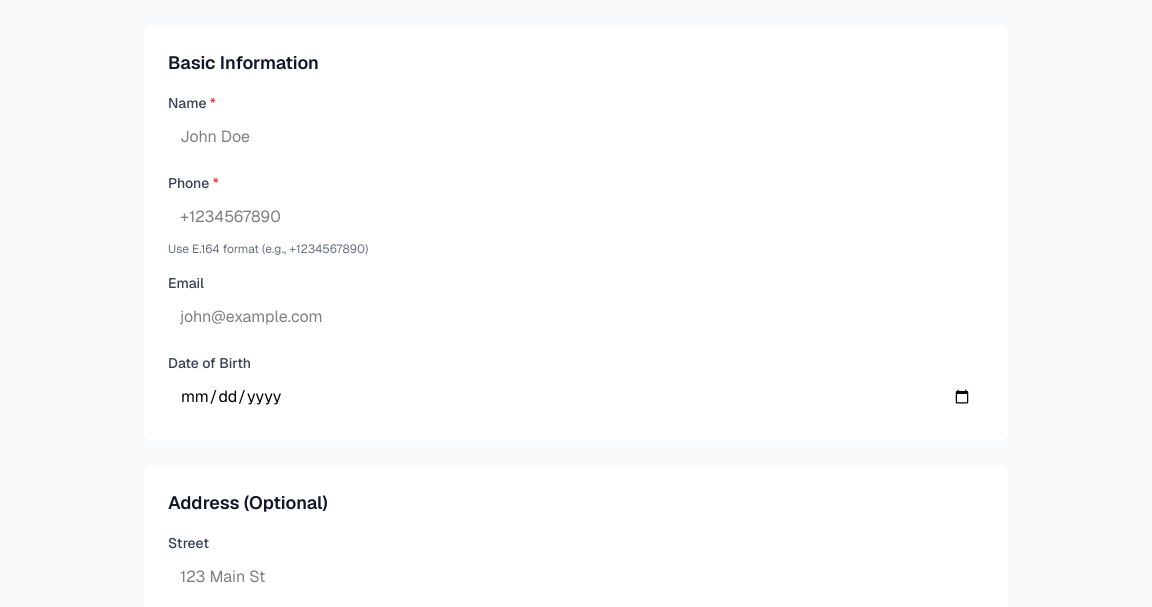
NewCustomerPage › Form Validation › should validate email format
In the field labelled "Email": (576, 317) 168,297 -> 984,337, type "invalid-email"
(page scrolled)
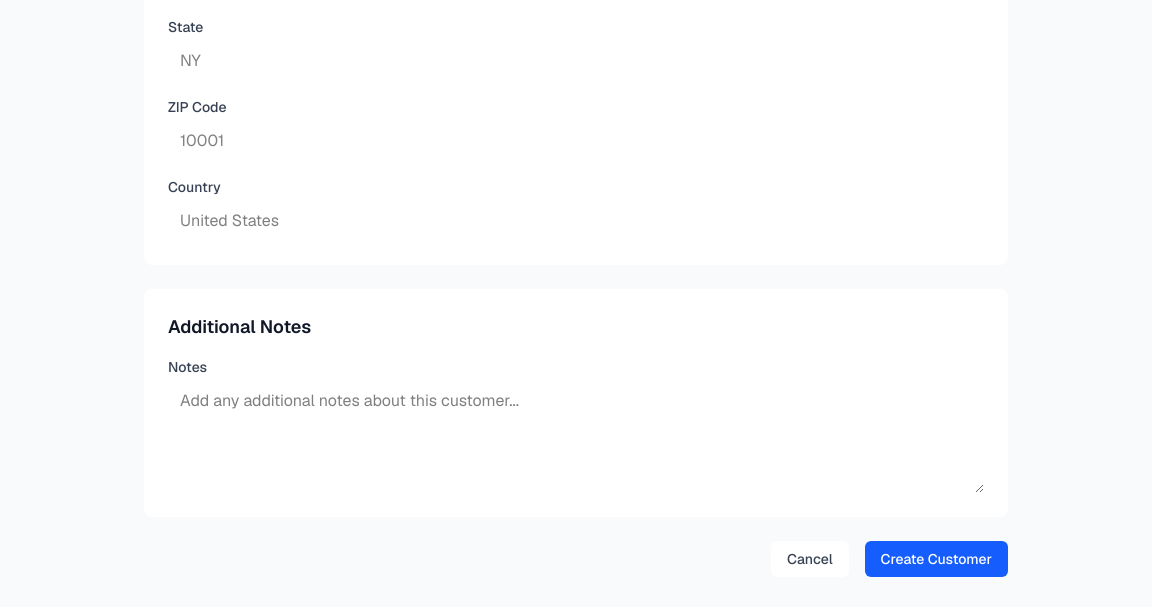
Click the button "Create Customer": click(936, 559) 865,541 -> 1008,577
(page scrolled)
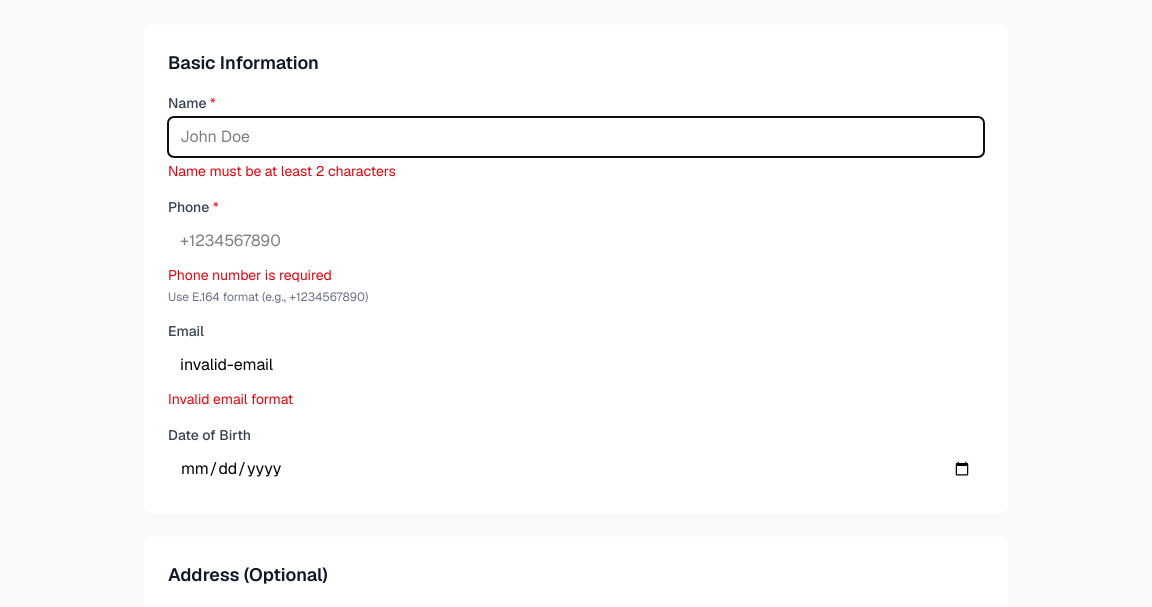
Result: the text "Invalid email format" is shown at 168,390 -> 293,408
